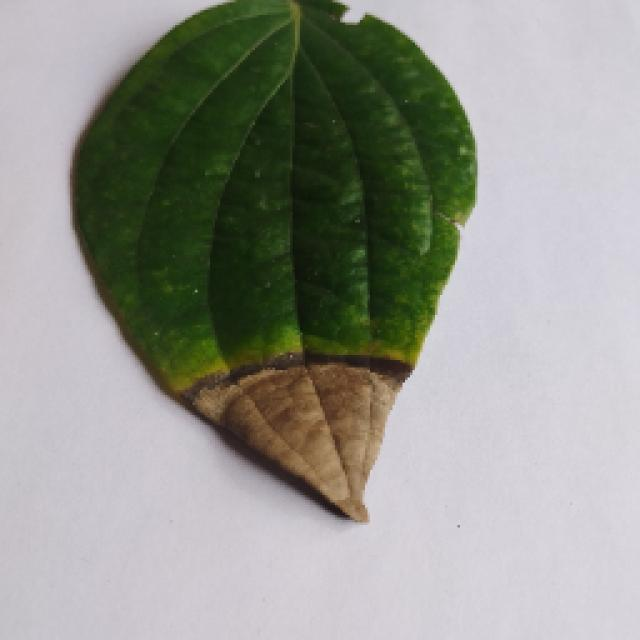footrot: (38, 2, 548, 528)
